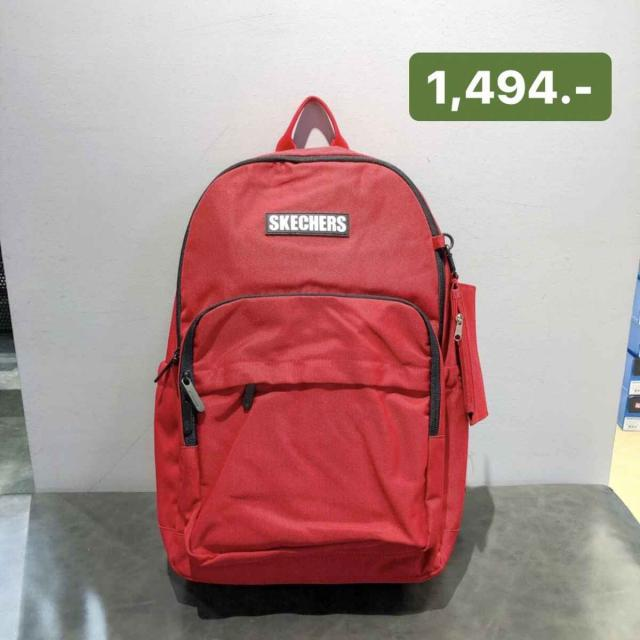handbag: (150, 148, 465, 604)
